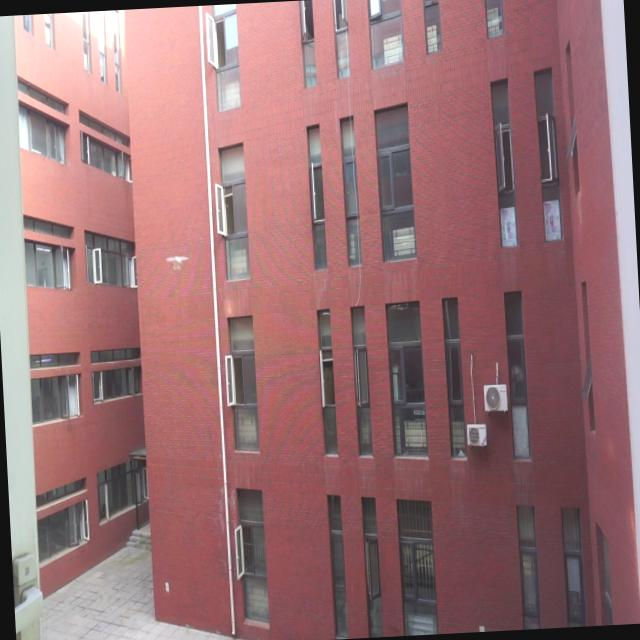drone: (164, 250, 191, 275)
